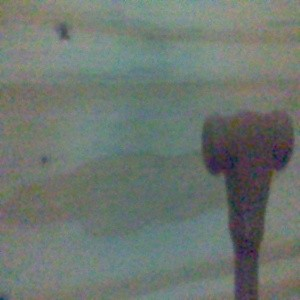palu: (202, 107, 295, 300)
